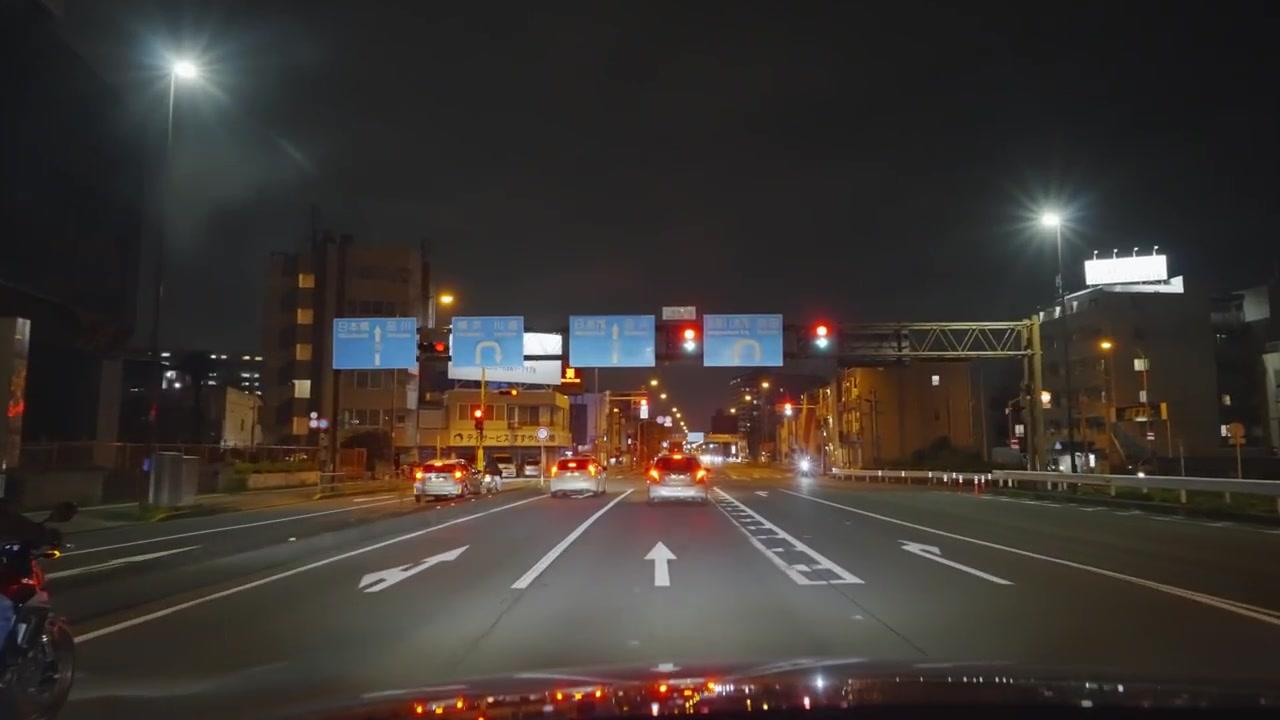car: (648, 448, 708, 502), (411, 457, 476, 504), (550, 451, 608, 499), (695, 445, 729, 472), (481, 463, 503, 498)
motorcycle: (0, 534, 79, 717)
person: (0, 483, 78, 646)
traffic light: (674, 323, 701, 359), (811, 321, 834, 354), (419, 335, 451, 358), (470, 405, 485, 430)
